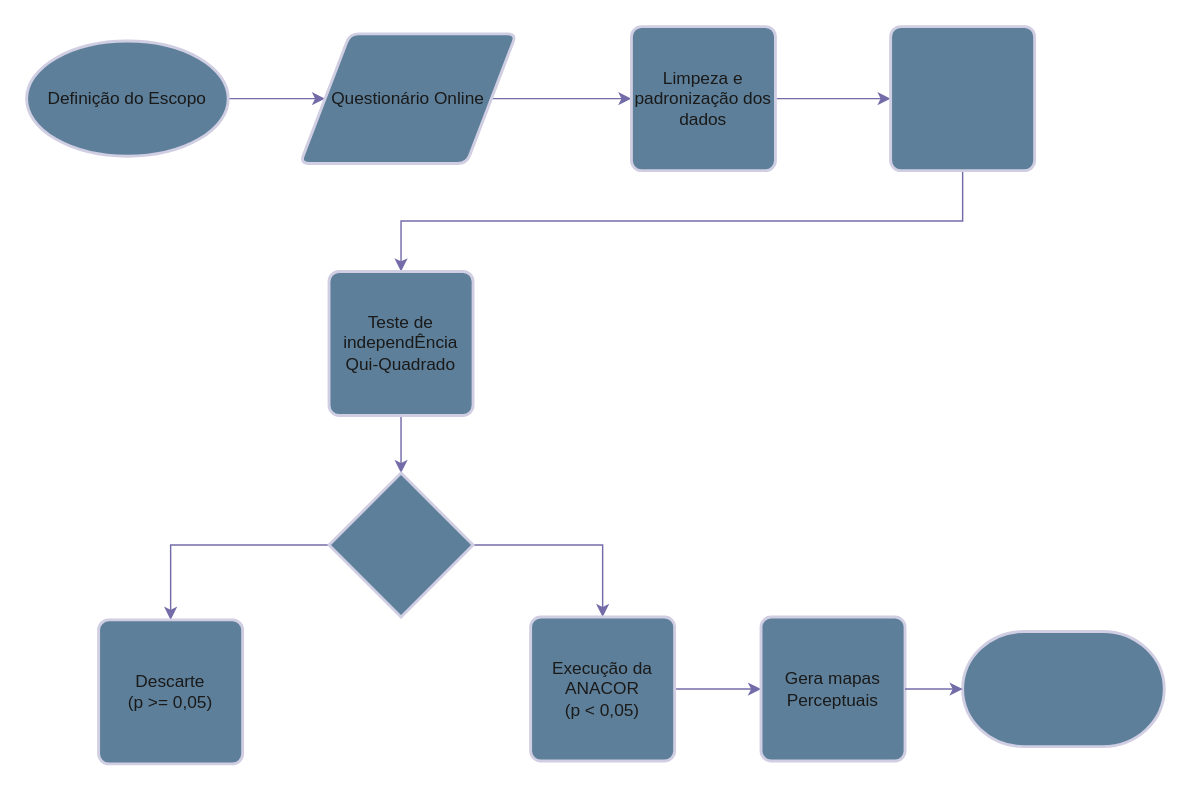
This 1189x789 diagram has some shape labels left out. Each missing label, with the centre of its shape:
"Análise dos resultados" goes at (x=1062, y=688).
"Análise exploratória e heatmap" goes at (x=961, y=97).
"p-valor < 0,05?" goes at (x=400, y=544).
